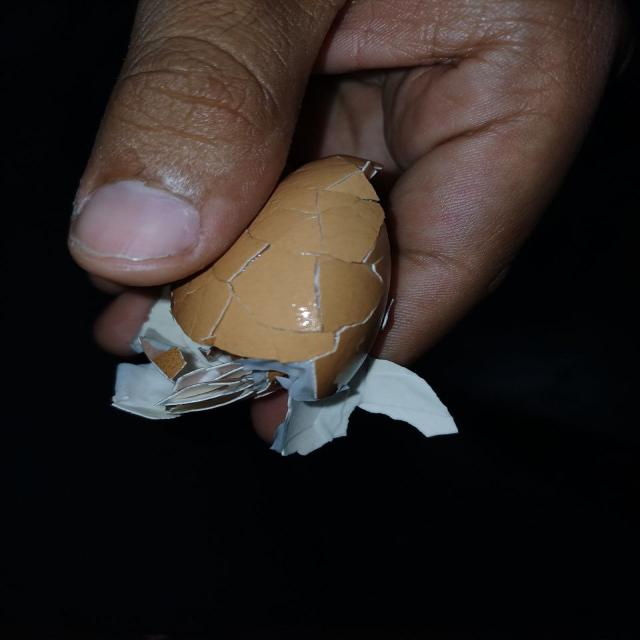organic: (109, 154, 464, 456)
